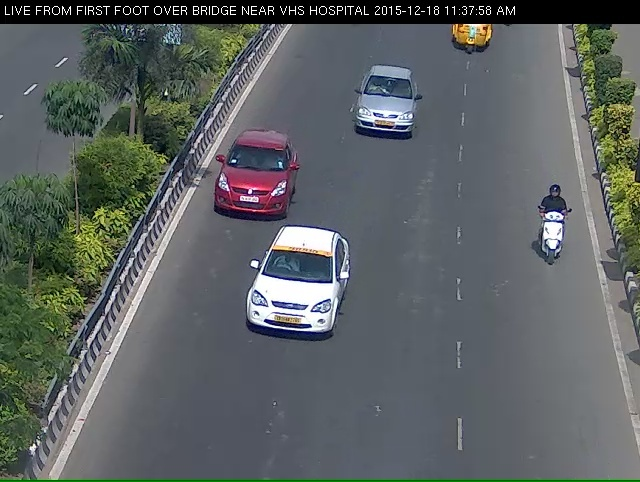Auto: (442, 21, 503, 67)
Car: (237, 250, 348, 373), (200, 144, 299, 231), (347, 71, 428, 162)
Person: (536, 209, 578, 296)
